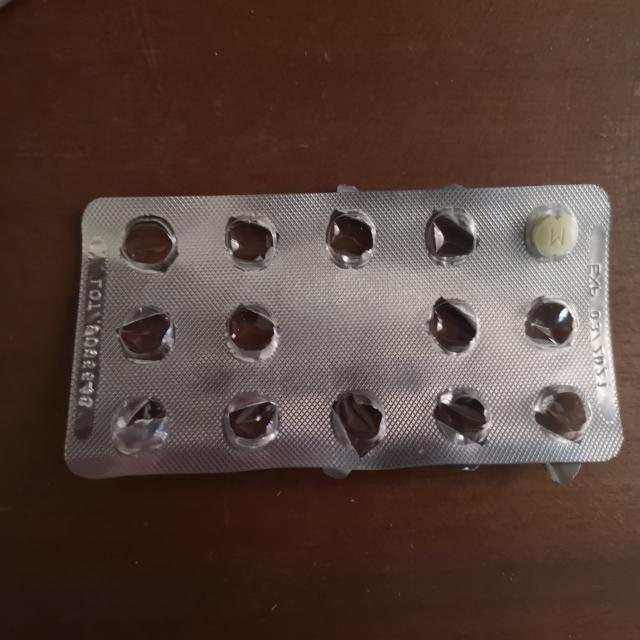Empty: (107, 388, 175, 462), (322, 385, 392, 456), (219, 386, 289, 456), (112, 297, 179, 368), (529, 376, 594, 446), (221, 297, 285, 368), (116, 209, 181, 276), (421, 200, 484, 269), (429, 383, 492, 451), (320, 202, 381, 272), (420, 292, 484, 358), (518, 289, 581, 354), (221, 207, 281, 273)
Pill: (522, 201, 582, 264)
